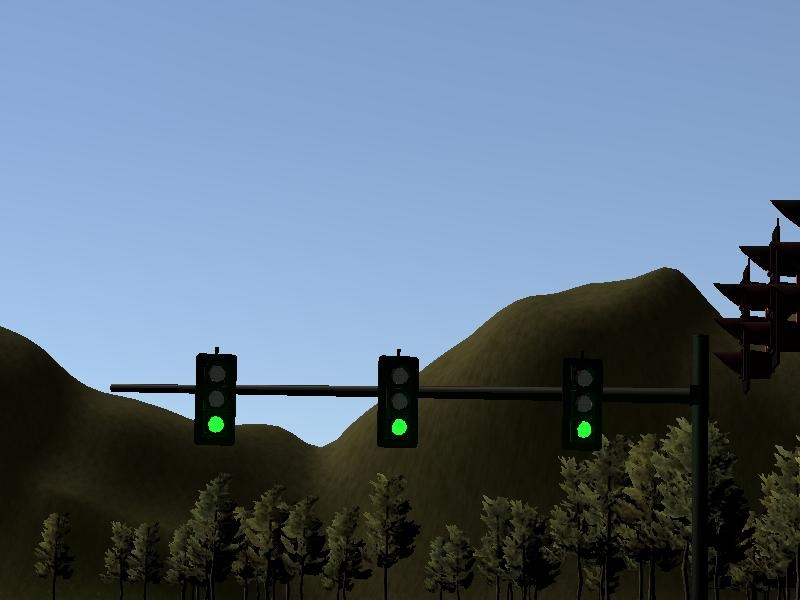GREEN: (562, 359, 602, 449), (378, 355, 418, 445), (195, 354, 235, 444)
